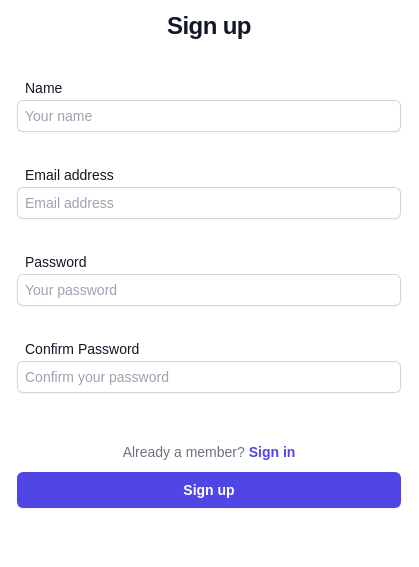
SignUpForm Component › should validate password confirmation
The width and height of the screenshot is (419, 567).
Type "ValidPassword123" into the password field named "password" at (209, 290), box [17,274,401,306]
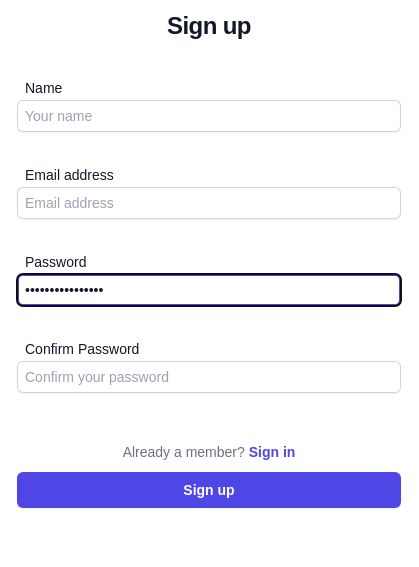
Type "DifferentPassword123" into the password field named "confirm-password" at (209, 377), box [17,361,401,393]
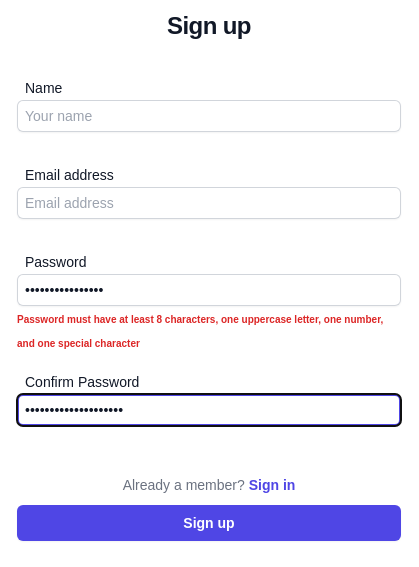
Click the submit button at (209, 523), box [17,505,401,541]
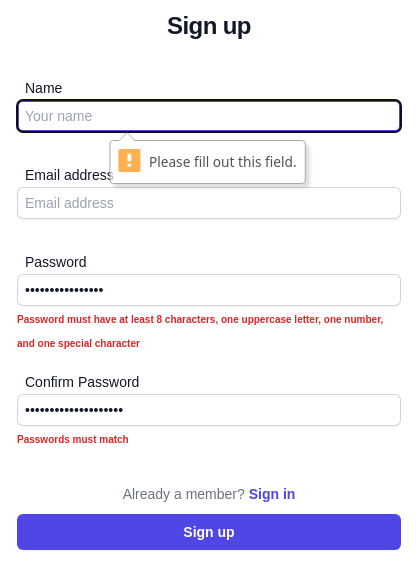
Expected: the text "Passwords must match" is shown, [17,434,129,445]
